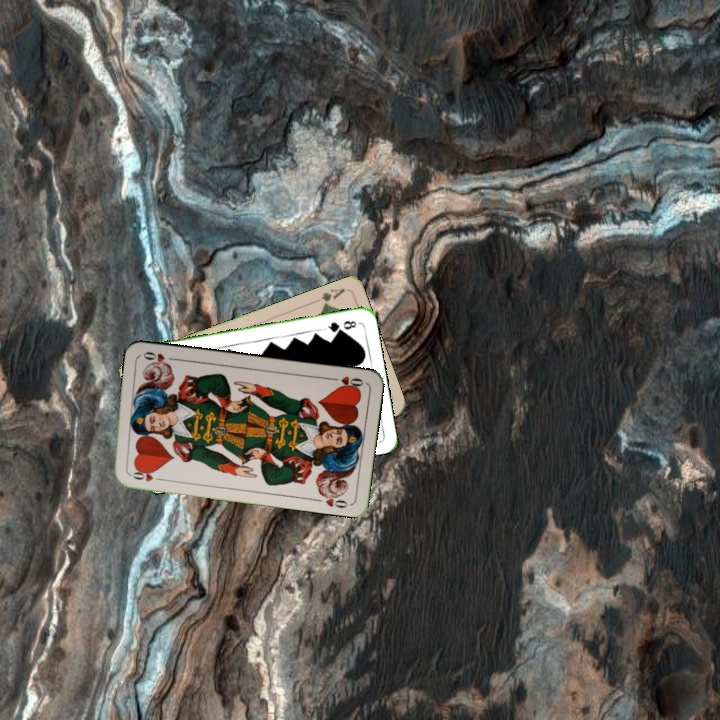G8: (320, 316, 359, 335)
GA: (317, 284, 347, 309)
HO: (327, 372, 366, 391), (125, 465, 157, 484)
